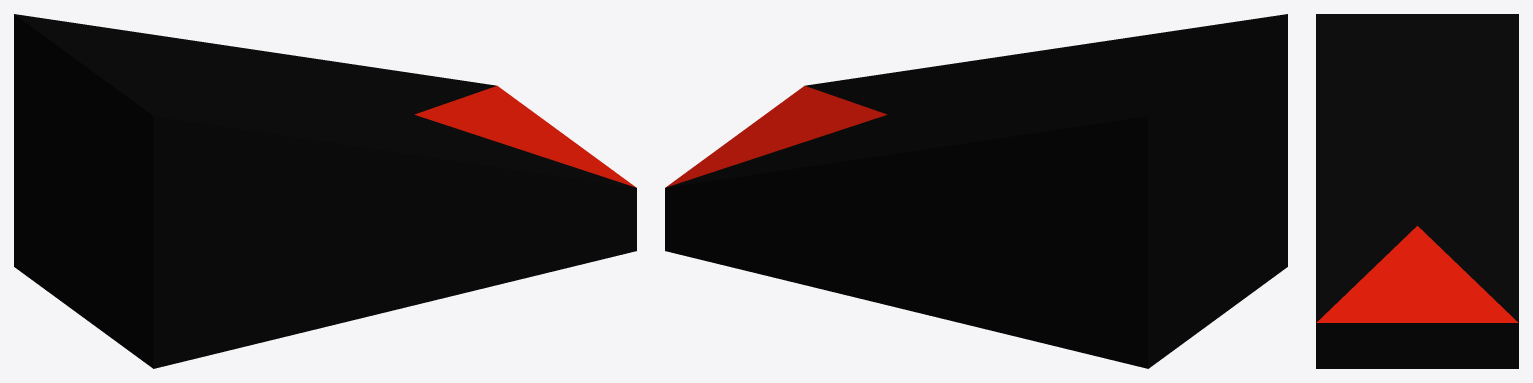
File: ramp.glb
3 views of the same model, side by side, from view 1: azimuth 30°, elevation 25°; view 2: azimuth 150°, elevation 25°; view 3: azimuth 270°, elevation 25° (orthographic). The views are drawn at different scales.
Visible parts, largest first — view 1: Cube; view 2: Cube; view 3: Cube.
Part boxes in pixels (box(x1,y1,x2,y2)): Cube: box(14, 14, 636, 368); Cube: box(665, 14, 1287, 368); Cube: box(1316, 14, 1518, 368).
Bounding box in the file's own units: 4 × 2 × 2.
